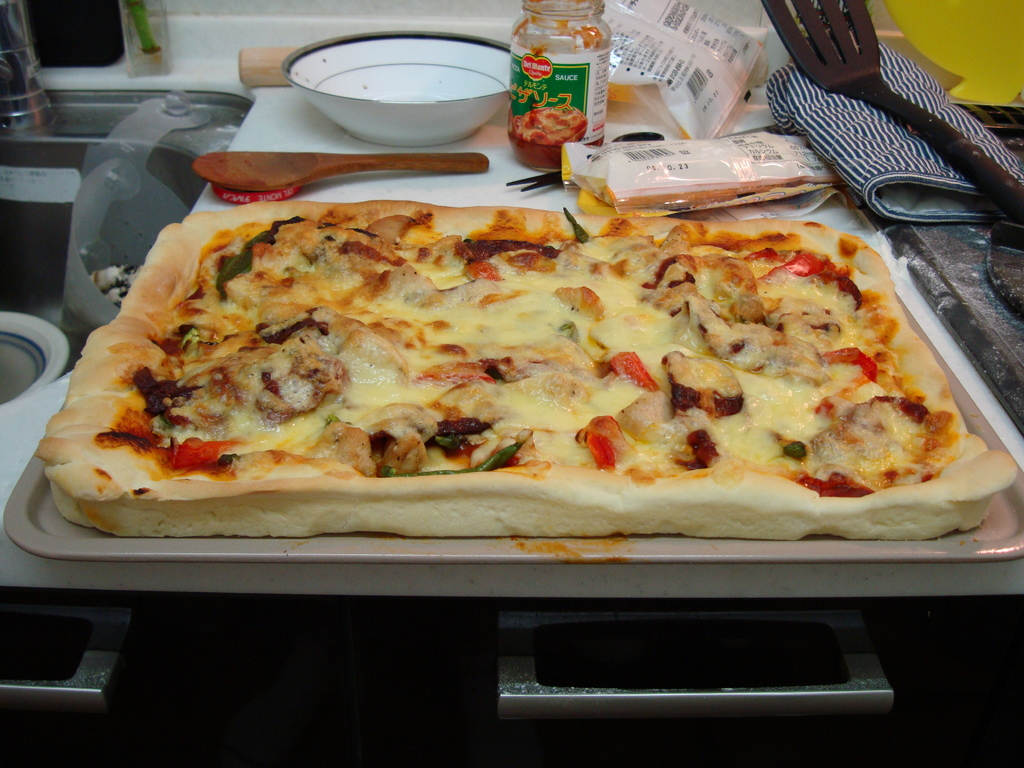Pizza: (23, 191, 999, 544)
